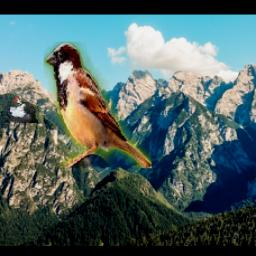Sparrow: (44, 42, 152, 168)
Woodpecker: (7, 92, 38, 124)
